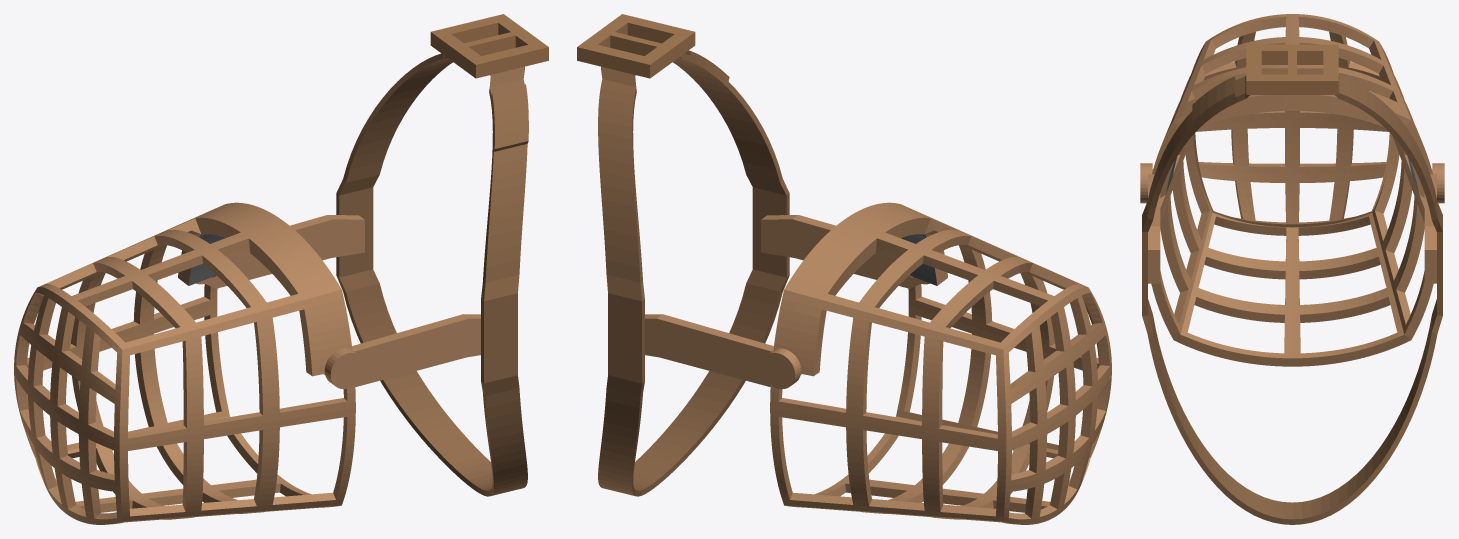
The picture shows the model from 3 angles, left to right: view 1: azimuth 30°, elevation 25°; view 2: azimuth 150°, elevation 25°; view 3: azimuth 270°, elevation 25°; orthographic projection.
Parts seen in each view (by area): view 1: Integrated_lattice_bridge_cheeks, Continuous_adjustable_neck_loop, Open_single_adjustment_buckle, Retained_overlap_tail; view 2: Integrated_lattice_bridge_cheeks, Continuous_adjustable_neck_loop, Open_single_adjustment_buckle; view 3: Integrated_lattice_bridge_cheeks, Continuous_adjustable_neck_loop, Open_single_adjustment_buckle, Retained_overlap_tail.
Part boxes in pixels (x1,y1,x2,y2): Integrated_lattice_bridge_cheeks: [14, 202, 480, 524]; Continuous_adjustable_neck_loop: [336, 53, 527, 496]; Open_single_adjustment_buckle: [430, 14, 548, 78]; Retained_overlap_tail: [491, 84, 528, 151]; Integrated_lattice_bridge_cheeks: [645, 202, 1111, 524]; Continuous_adjustable_neck_loop: [598, 53, 789, 496]; Open_single_adjustment_buckle: [577, 14, 695, 78]; Integrated_lattice_bridge_cheeks: [1140, 14, 1444, 366]; Continuous_adjustable_neck_loop: [1142, 68, 1442, 524]; Open_single_adjustment_buckle: [1246, 44, 1338, 94]; Retained_overlap_tail: [1192, 76, 1235, 124].
Size of the model in its own units: 0.181 by 0.163 by 0.099.
